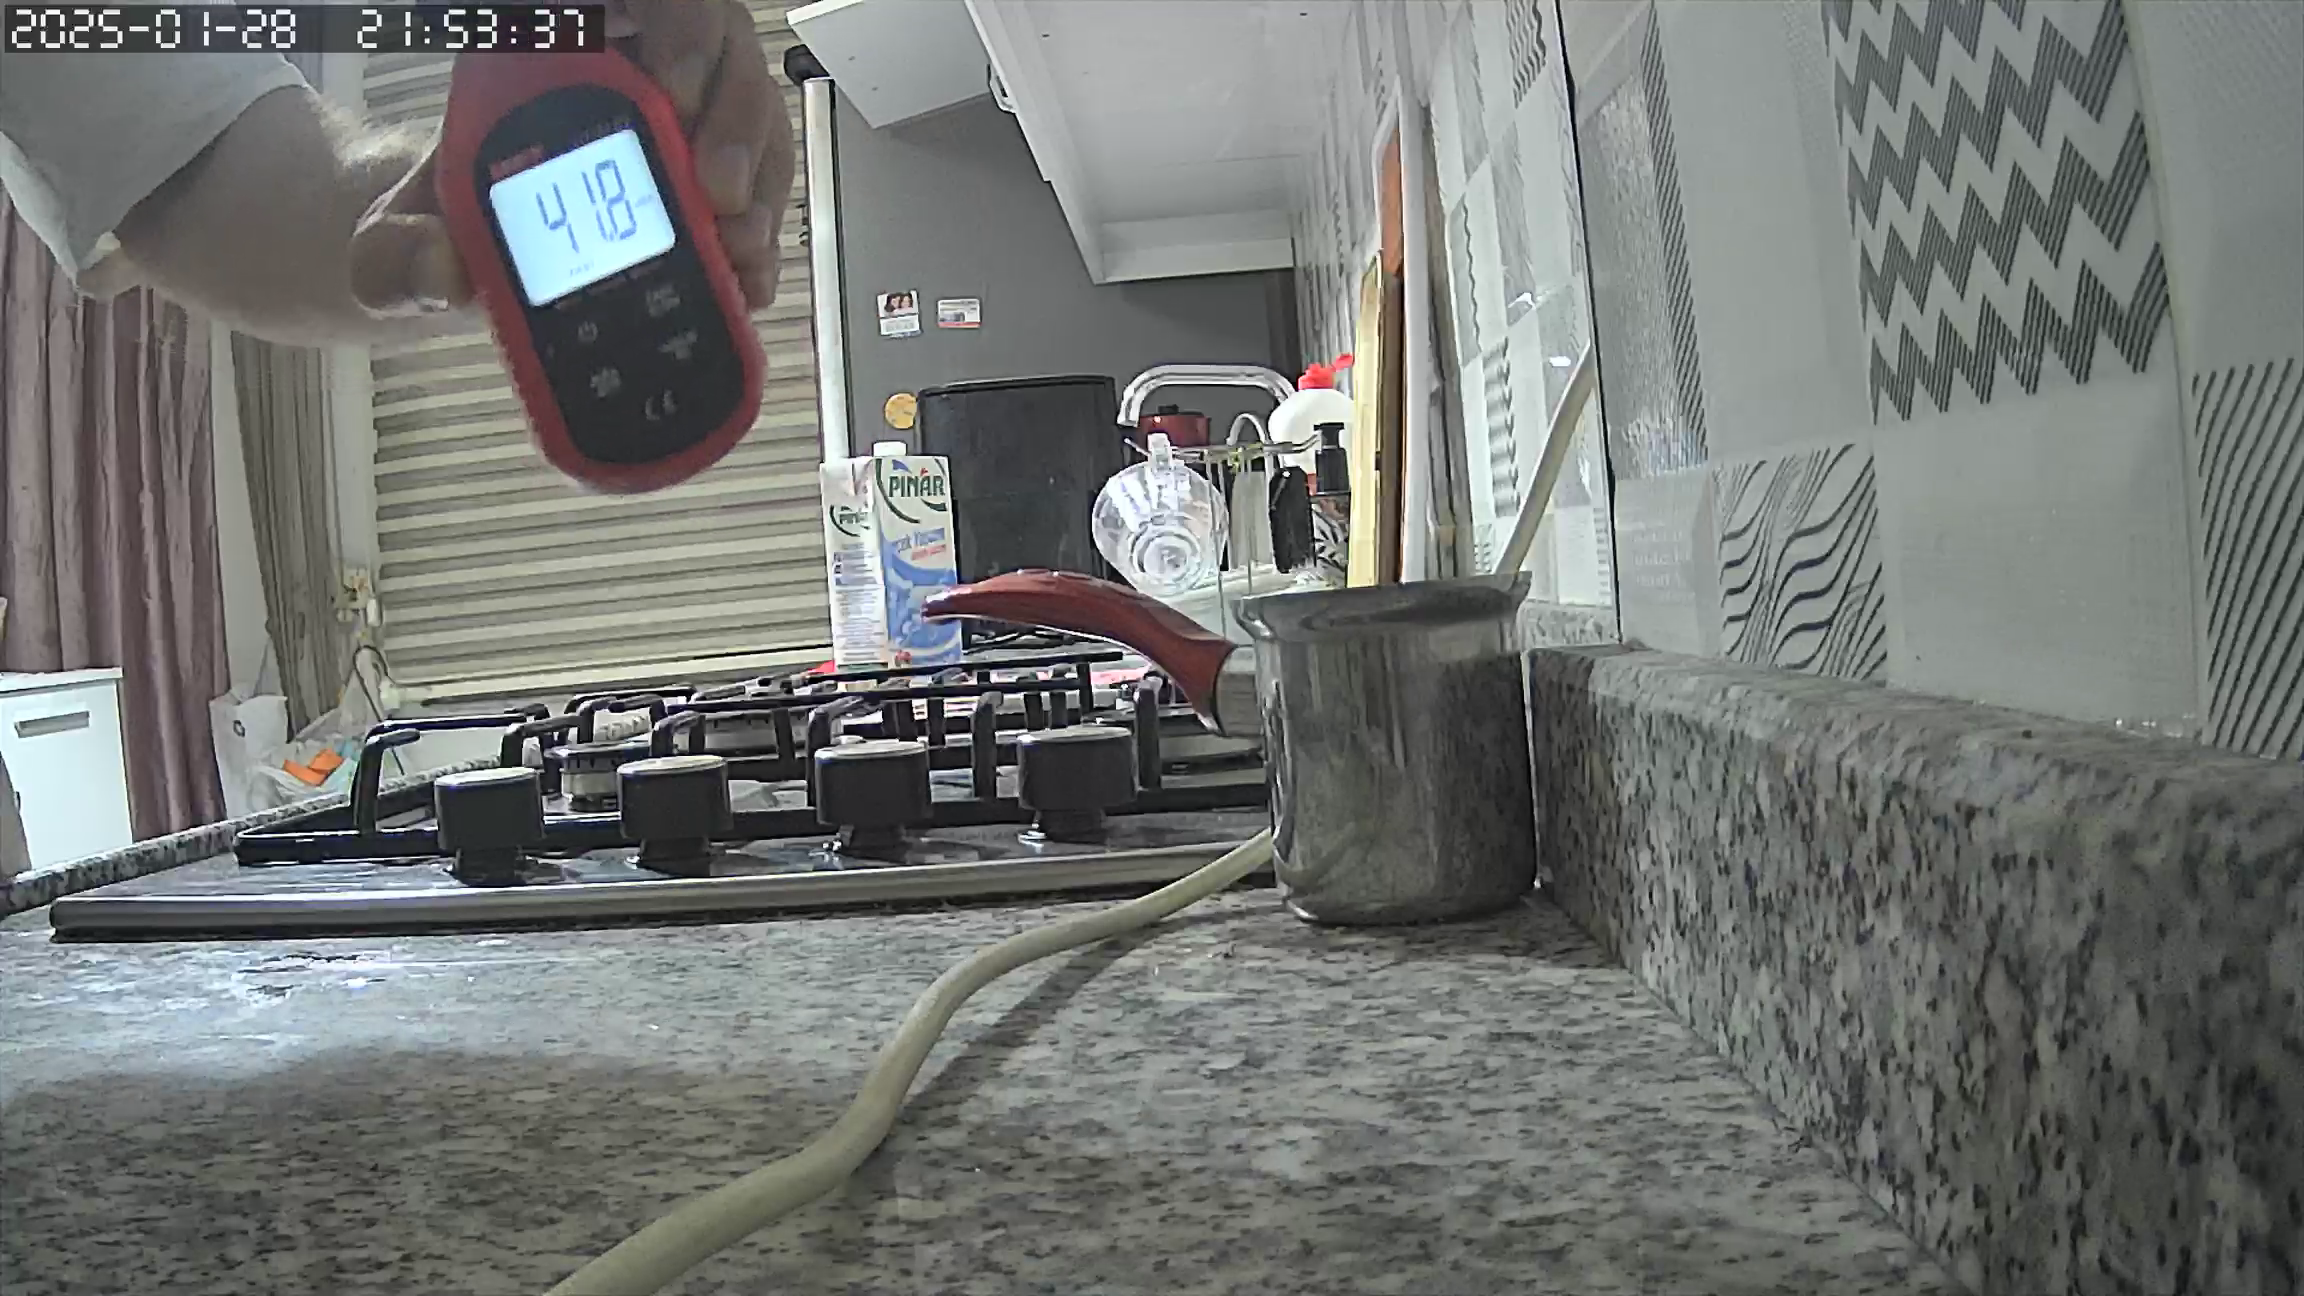screen: (492, 127, 677, 302)
